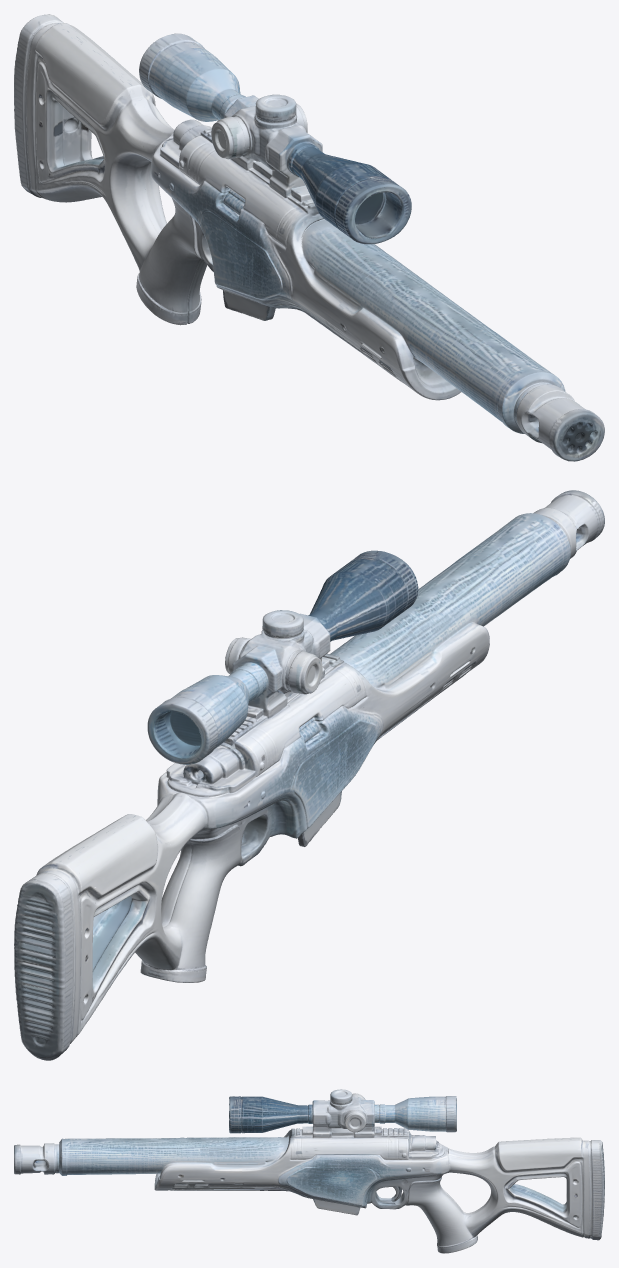
The model's file is northwind-compressed.glb.
3 renders of one model, top to bottom at view 1: azimuth 30°, elevation 25°; view 2: azimuth 150°, elevation 25°; view 3: azimuth 270°, elevation 25°, orthographic. The views are drawn at different scales.
Parts seen in each view (by area): view 1: node_0; view 2: node_0; view 3: node_0.
Part boxes in pixels (x1,y1,x2,y2): node_0: [14, 14, 604, 461]; node_0: [14, 490, 604, 1060]; node_0: [14, 1089, 604, 1253].
Size of the model in its own units: 0.1104 by 0.3467 by 1.18.
1 material, 1 textured.
